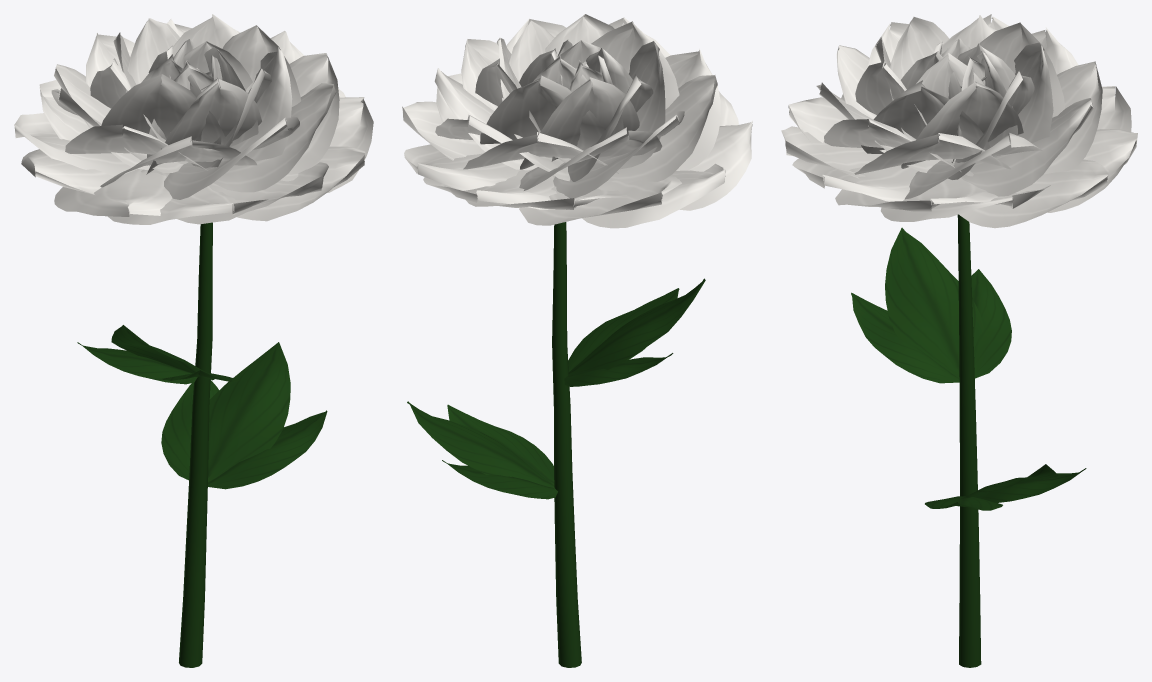
Rendered from white_peony.glb.
3 views of the same model, side by side, from view 1: azimuth 30°, elevation 25°; view 2: azimuth 150°, elevation 25°; view 3: azimuth 270°, elevation 25° (orthographic).
Visible parts, largest first — view 1: White_Peony; view 2: White_Peony; view 3: White_Peony.
Part boxes in pixels (x1=…): White_Peony: x1=14, y1=14, x2=373, y2=667; White_Peony: x1=402, y1=14, x2=752, y2=667; White_Peony: x1=781, y1=14, x2=1137, y2=667.
Size of the model in its own units: 0.1257 by 0.2408 by 0.1257.
2 materials, 2 textured.
